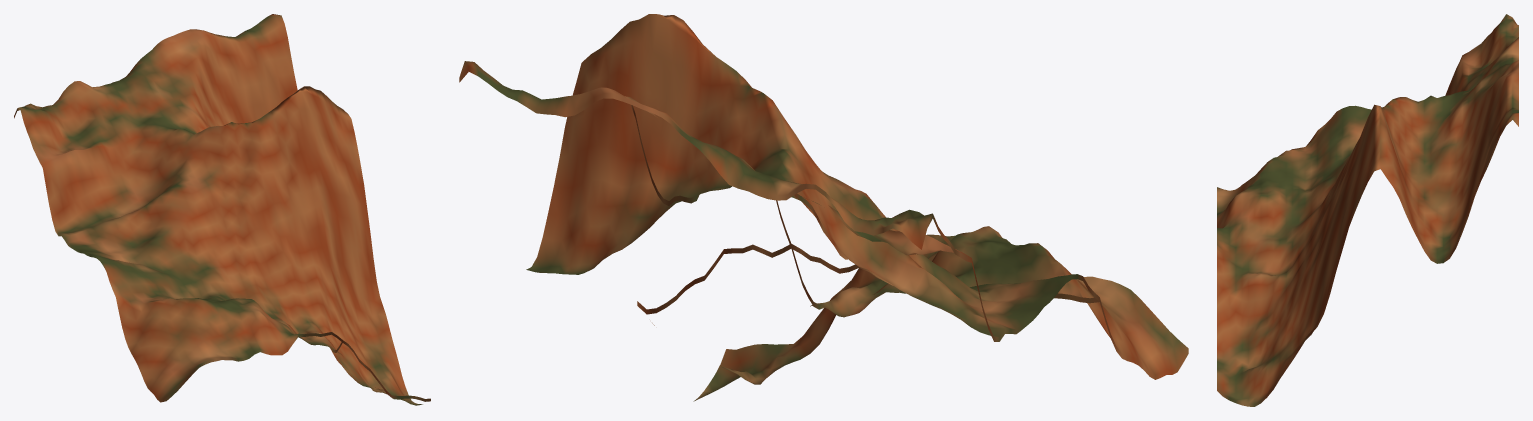
File: terrain-071.glb
3 renders of one model, left to right at view 1: azimuth 30°, elevation 25°; view 2: azimuth 150°, elevation 25°; view 3: azimuth 270°, elevation 25°, orthographic. The views are drawn at different scales.
Visible parts, largest first — view 1: terrain-071; view 2: terrain-071; view 3: terrain-071.
Part boxes in pixels (left/top/right/bottom): terrain-071: left=14, top=14, right=430, bottom=405; terrain-071: left=459, top=14, right=1188, bottom=401; terrain-071: left=1217, top=14, right=1518, bottom=406.
Bounding box in the file's own units: 384 × 414 × 384.
